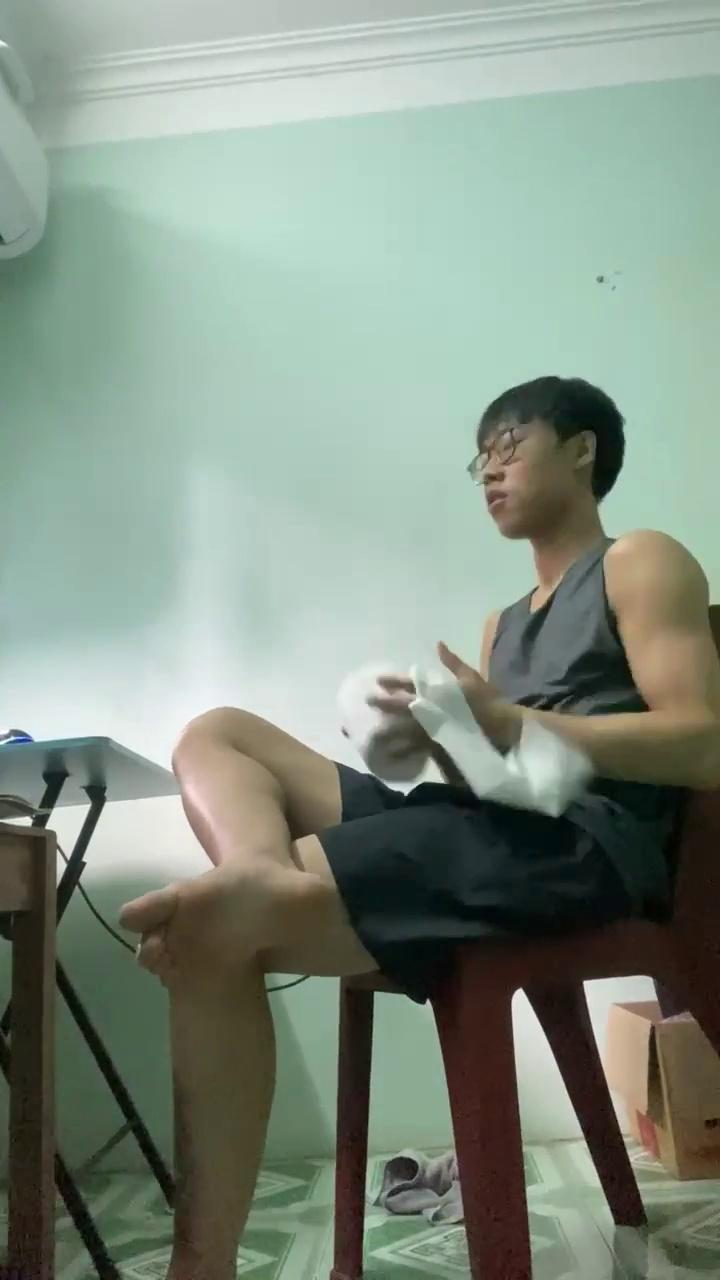BadPosture: (122, 708, 371, 1279)
